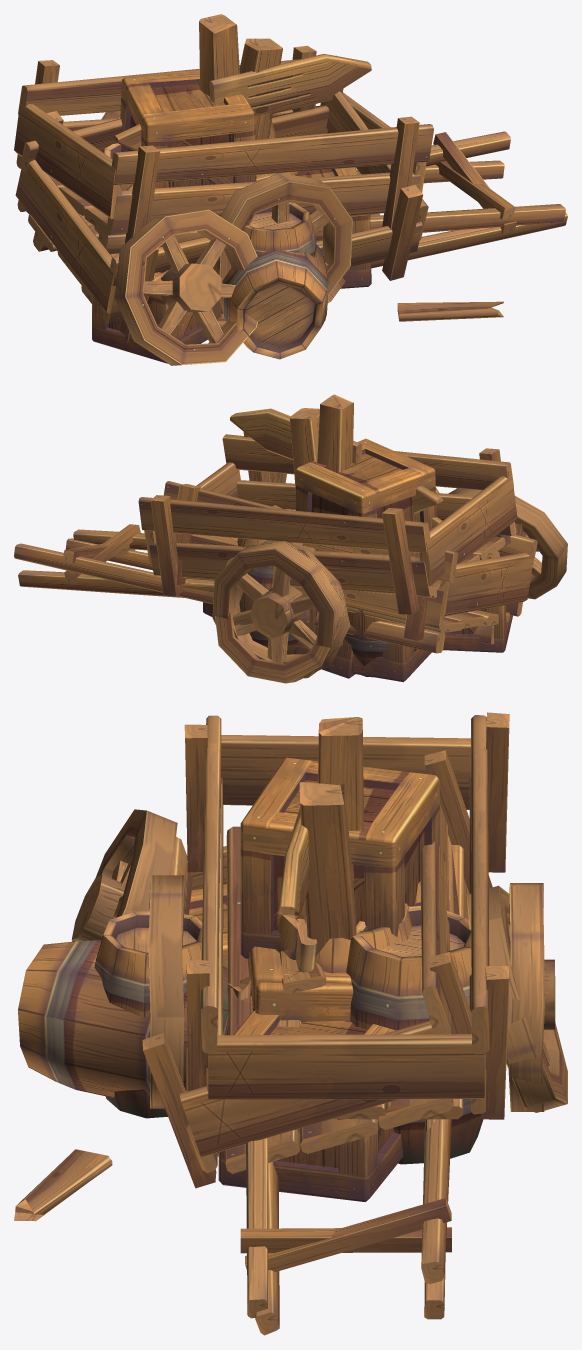
Rendered from Props.glb.
The picture shows the model from 3 angles, top to bottom: view 1: azimuth 30°, elevation 25°; view 2: azimuth 150°, elevation 25°; view 3: azimuth 270°, elevation 25°; orthographic projection. The views are drawn at different scales.
Parts seen in each view (by area): view 1: Cart, CartBroken, CrateStack, BarrelPile, SignPost, SignLean; view 2: Cart, CartBroken, CrateStack, SignPost, BarrelPile, SignLean, CrateBroken; view 3: Cart, CartBroken, CrateStack, BarrelPile, SignLean, SignPost, CrateA, CrateBroken, BarrelA.
Part boxes in pixels (bbox=[...]): Cart: bbox=[14, 45, 565, 295]; CartBroken: bbox=[15, 89, 567, 365]; CrateStack: bbox=[120, 70, 371, 288]; BarrelPile: bbox=[92, 121, 328, 363]; SignPost: bbox=[127, 14, 371, 190]; SignLean: bbox=[113, 38, 282, 150]; Cart: bbox=[18, 432, 517, 678]; CartBroken: bbox=[14, 472, 567, 683]; CrateStack: bbox=[203, 438, 436, 682]; SignPost: bbox=[230, 394, 442, 528]; BarrelPile: bbox=[237, 509, 512, 677]; SignLean: bbox=[289, 408, 442, 513]; CrateBroken: bbox=[321, 639, 354, 678]; Cart: bbox=[148, 712, 555, 1319]; CartBroken: bbox=[14, 750, 567, 1335]; CrateStack: bbox=[94, 757, 439, 1201]; BarrelPile: bbox=[18, 881, 483, 1164]; SignLean: bbox=[296, 782, 356, 972]; SignPost: bbox=[279, 717, 363, 924]; CrateA: bbox=[255, 982, 353, 1021]; CrateBroken: bbox=[217, 946, 351, 1156]; BarrelA: bbox=[275, 903, 411, 973].
Bounding box in the file's own units: 15.34 × 8.54 × 10.22.
Materials: 1 (1 with a texture image).
